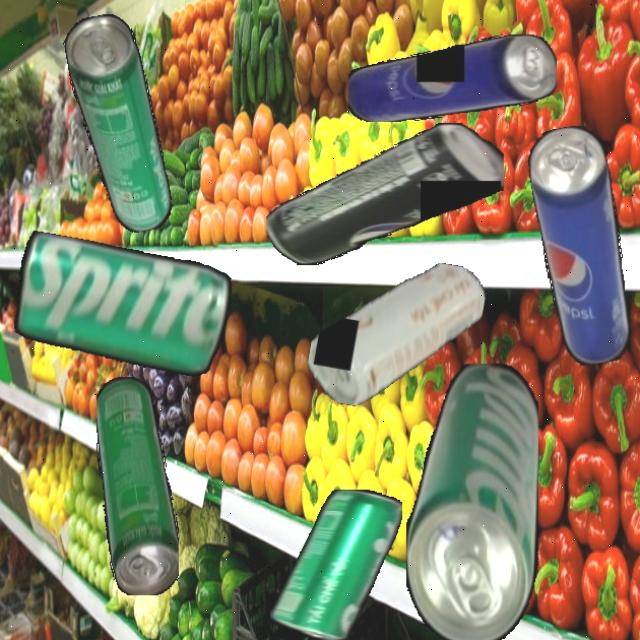debris: (0, 229, 235, 416), (405, 362, 538, 640), (266, 122, 504, 265), (302, 243, 489, 424), (523, 122, 640, 369), (60, 9, 176, 239), (269, 489, 402, 640), (347, 34, 557, 122), (95, 376, 179, 595)
